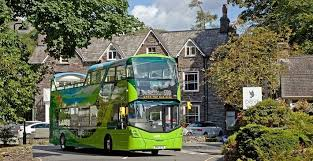bus: (48, 54, 184, 156)
